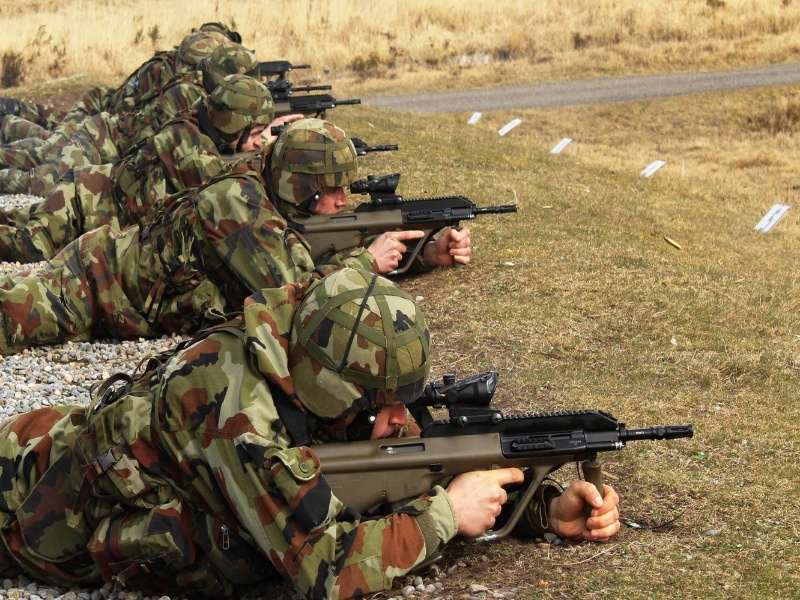person: (1, 269, 621, 600), (1, 119, 471, 356), (1, 74, 276, 263), (1, 44, 257, 178)
weapon: (307, 371, 695, 537), (292, 174, 516, 275), (271, 121, 398, 157), (272, 95, 362, 116), (263, 79, 332, 96), (257, 61, 312, 77)
